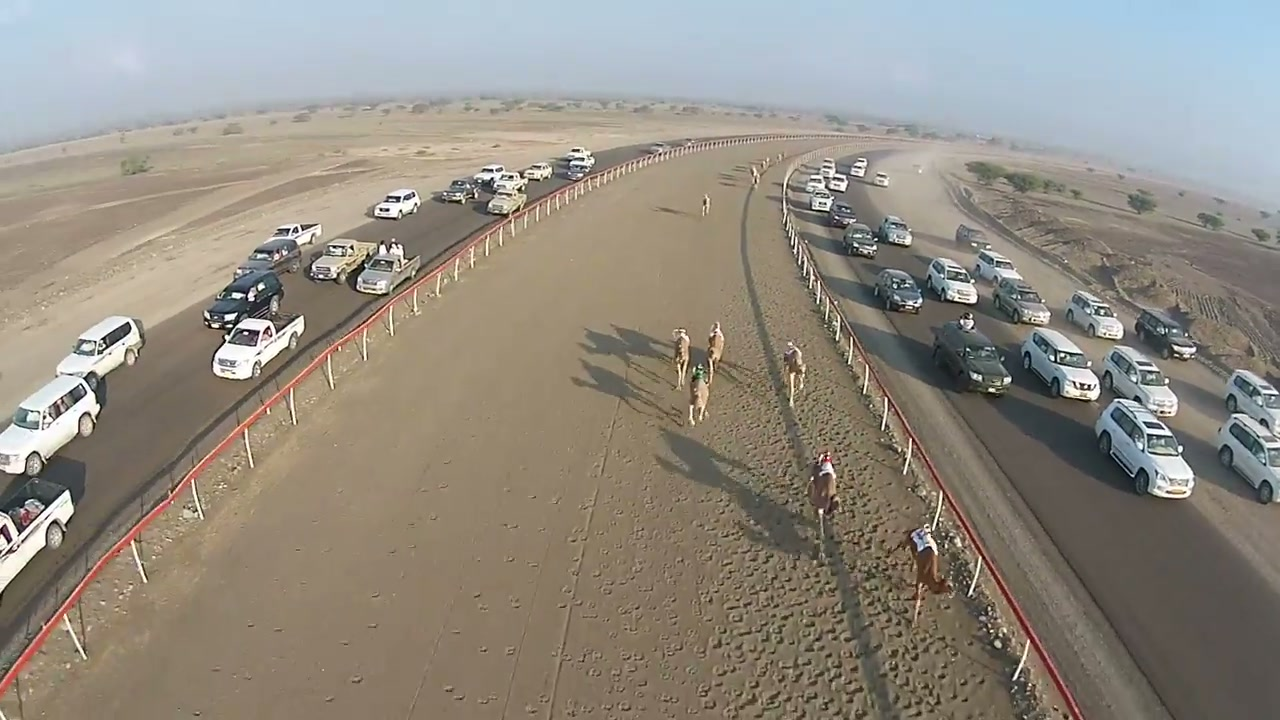animal_foot_print: (709, 438, 971, 711)
